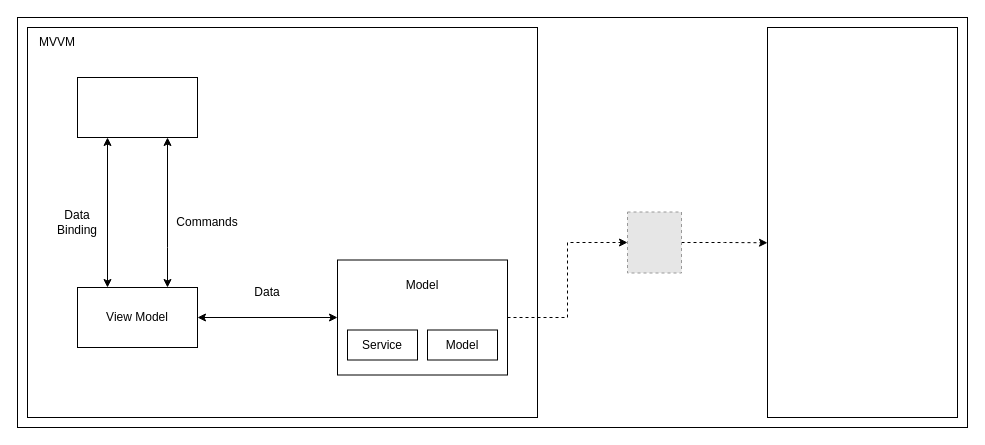
The diagram is 985 pixels wide and 445 high, and some of its shapes have lost their labels. Grey dashed boxes stand in for pictures. The centre of each missing label's shape, as x and y in pixels:
"Server" goes at pixel 862 222.
"View" goes at pixel 137 107.
